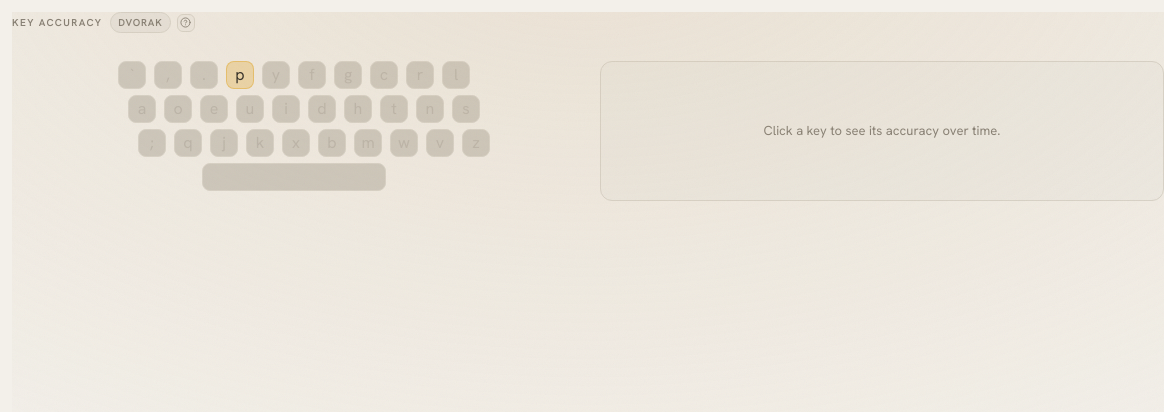
it: KeyAccuracyBoard › renders dvorak key positions
Expected: the text "Dvorak" is shown, x1=110 y1=12 x2=170 y2=33
Click the button named "p key".
click(240, 75)  # box x1=226 y1=61 x2=254 y2=89
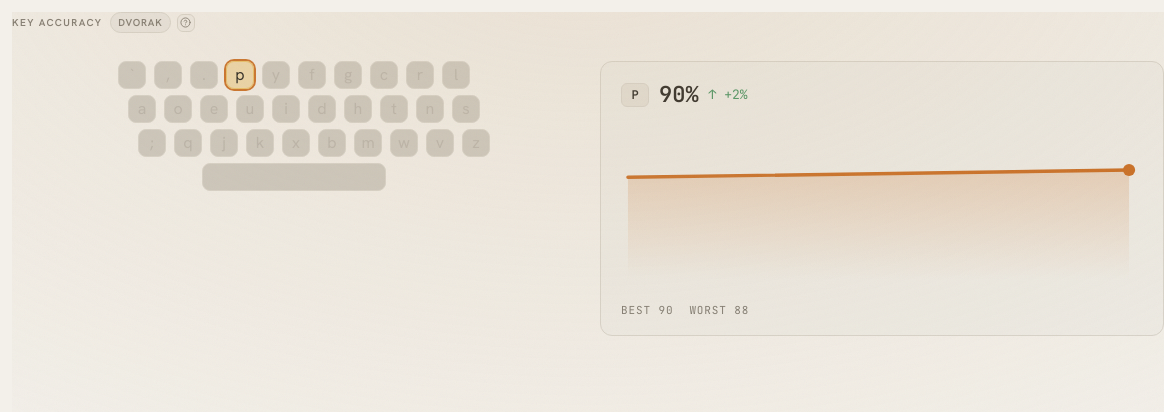
Expected: the text "90%" is shown, x1=659 y1=78 x2=699 y2=111
